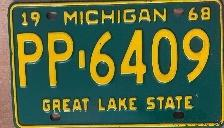0: (149, 26, 180, 84)
4: (119, 28, 149, 86)
6: (88, 28, 117, 86)
9: (181, 27, 214, 83)
P: (15, 31, 46, 89), (46, 30, 76, 89)
